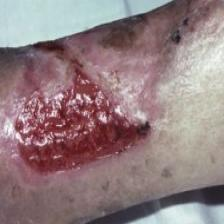wound-ulser: (2, 32, 157, 192)
